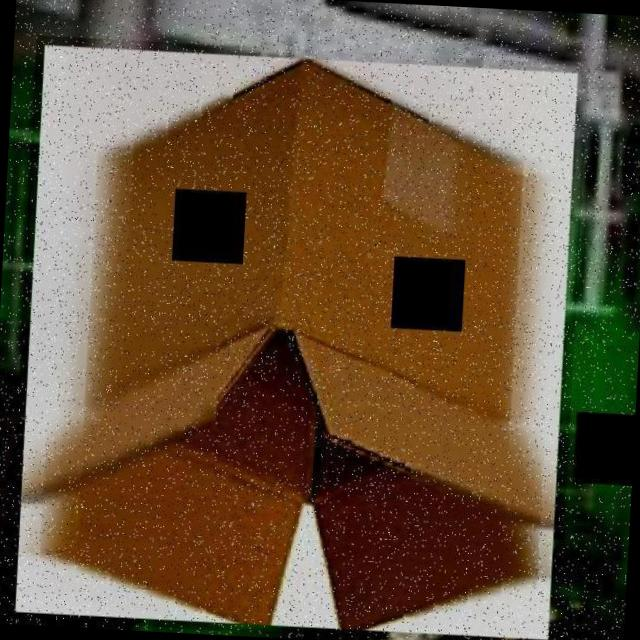box: (6, 35, 589, 640)
